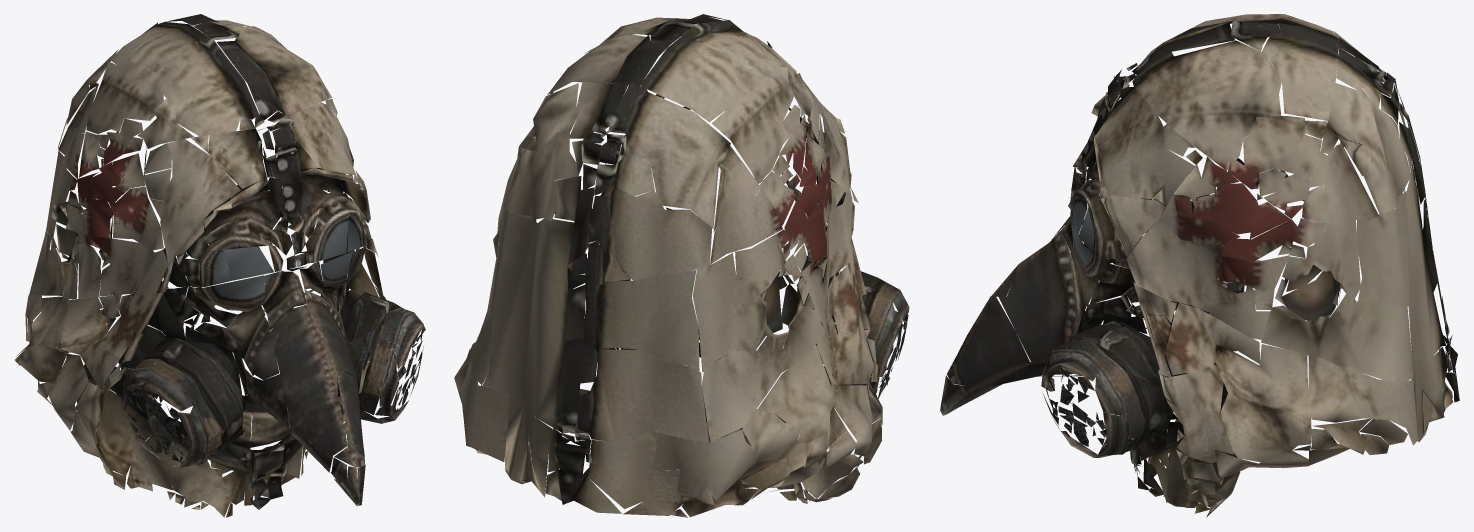
The model's file is a_ward_mask.glb.
3 renders of one model, left to right at view 1: azimuth 30°, elevation 25°; view 2: azimuth 150°, elevation 25°; view 3: azimuth 270°, elevation 25°, orthographic. The views are drawn at different scales.
Visible parts, largest first — view 1: tripo_node_d6661f3f-70c5-4264-bc19-4c6a00129a35; view 2: tripo_node_d6661f3f-70c5-4264-bc19-4c6a00129a35; view 3: tripo_node_d6661f3f-70c5-4264-bc19-4c6a00129a35.
Boxes of the visible parts, <box> form: tripo_node_d6661f3f-70c5-4264-bc19-4c6a00129a35: <box>15,14,425,517</box>; tripo_node_d6661f3f-70c5-4264-bc19-4c6a00129a35: <box>454,14,909,517</box>; tripo_node_d6661f3f-70c5-4264-bc19-4c6a00129a35: <box>940,14,1459,517</box>.
Bounding box in the file's own units: 0.2935 × 0.3782 × 0.3795.
1 material, 1 textured.
